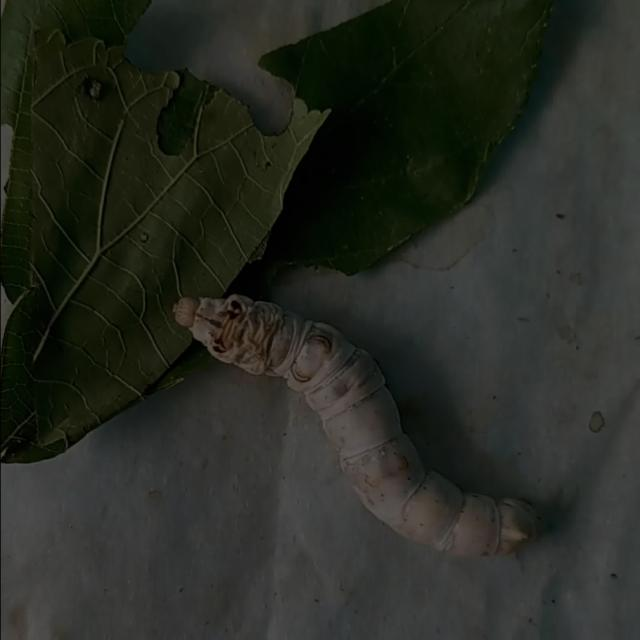Grasserie: (138, 247, 560, 588)
